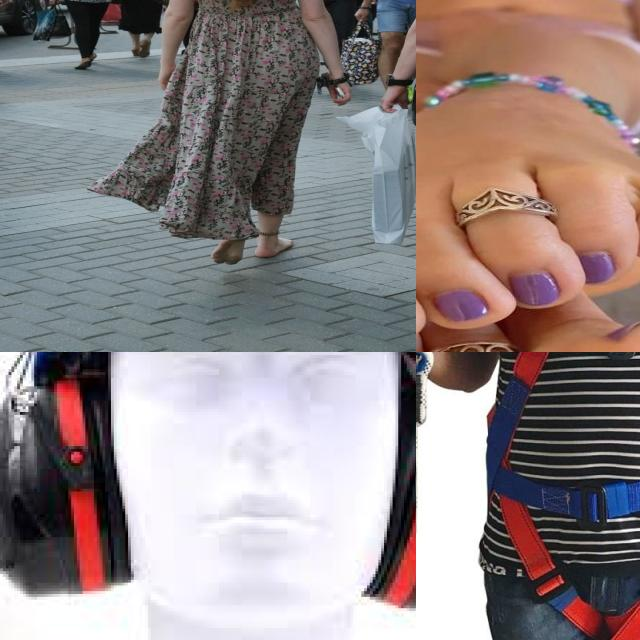Barefoots: (416, 24, 640, 352), (416, 200, 640, 352), (211, 230, 252, 265), (254, 237, 294, 258)
Ear-protection: (0, 383, 125, 596)
Harness: (484, 352, 640, 610)
